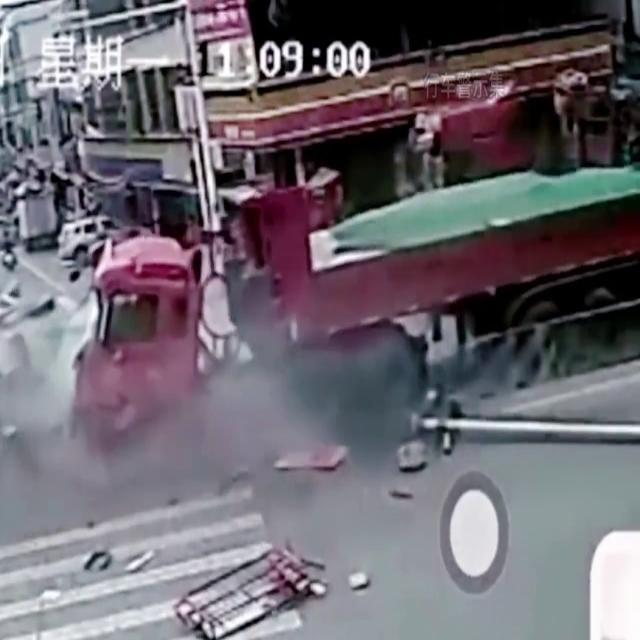multiple_accident: (161, 146, 636, 640)
